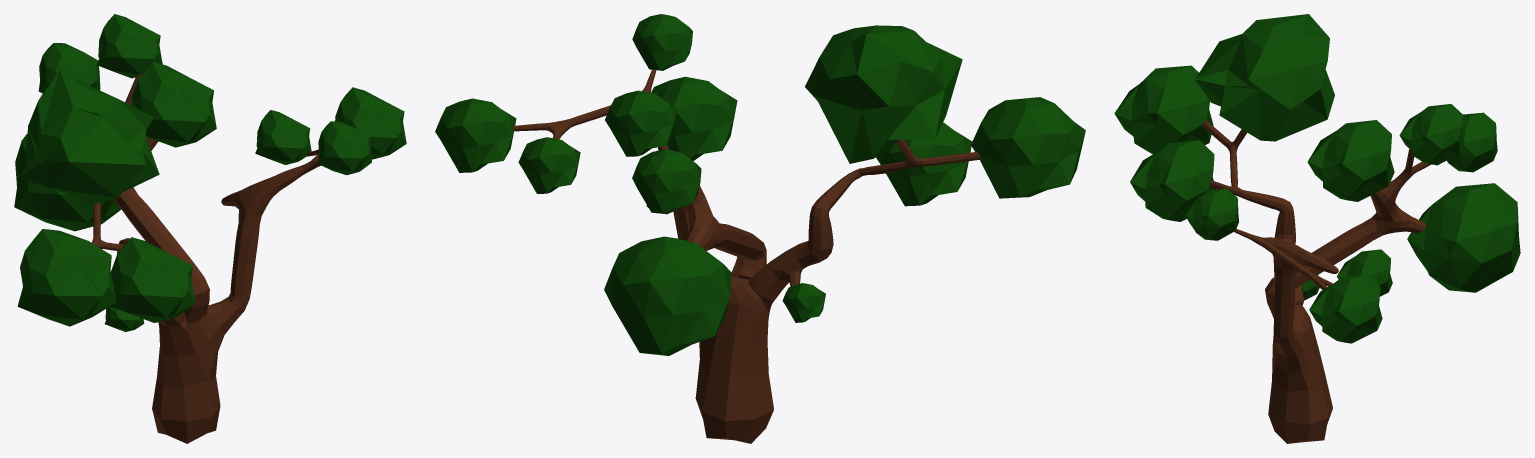
The model's file is Tree1.obj.
3 views of the same model, side by side, from view 1: azimuth 30°, elevation 25°; view 2: azimuth 150°, elevation 25°; view 3: azimuth 270°, elevation 25° (orthographic). The views are drawn at different scales.
Visible parts, largest first — view 1: Icosphere.019; view 2: Icosphere.019; view 3: Icosphere.019.
Boxes of the visible parts, x1,y1,x2,y2 form: Icosphere.019: [14, 14, 406, 443]; Icosphere.019: [435, 14, 1085, 443]; Icosphere.019: [1114, 14, 1520, 443].
Bounding box in the file's own units: 11.27 × 9.04 × 8.94.
